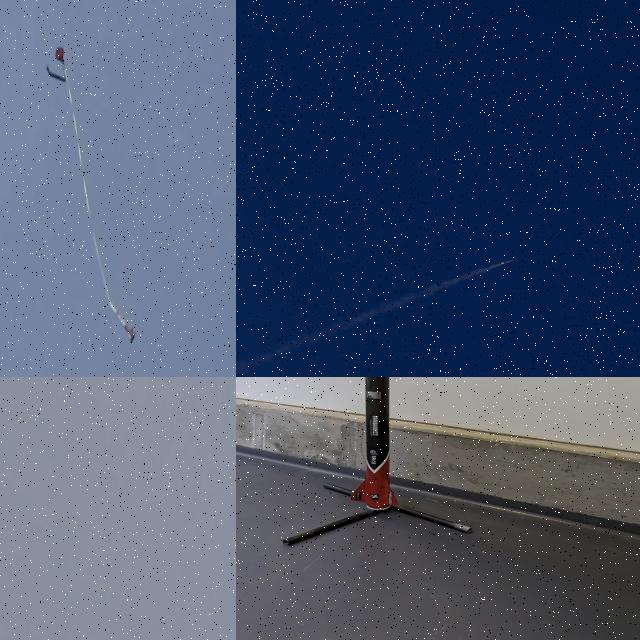Rocket: (350, 377, 398, 510), (109, 301, 137, 345), (501, 258, 514, 265)
